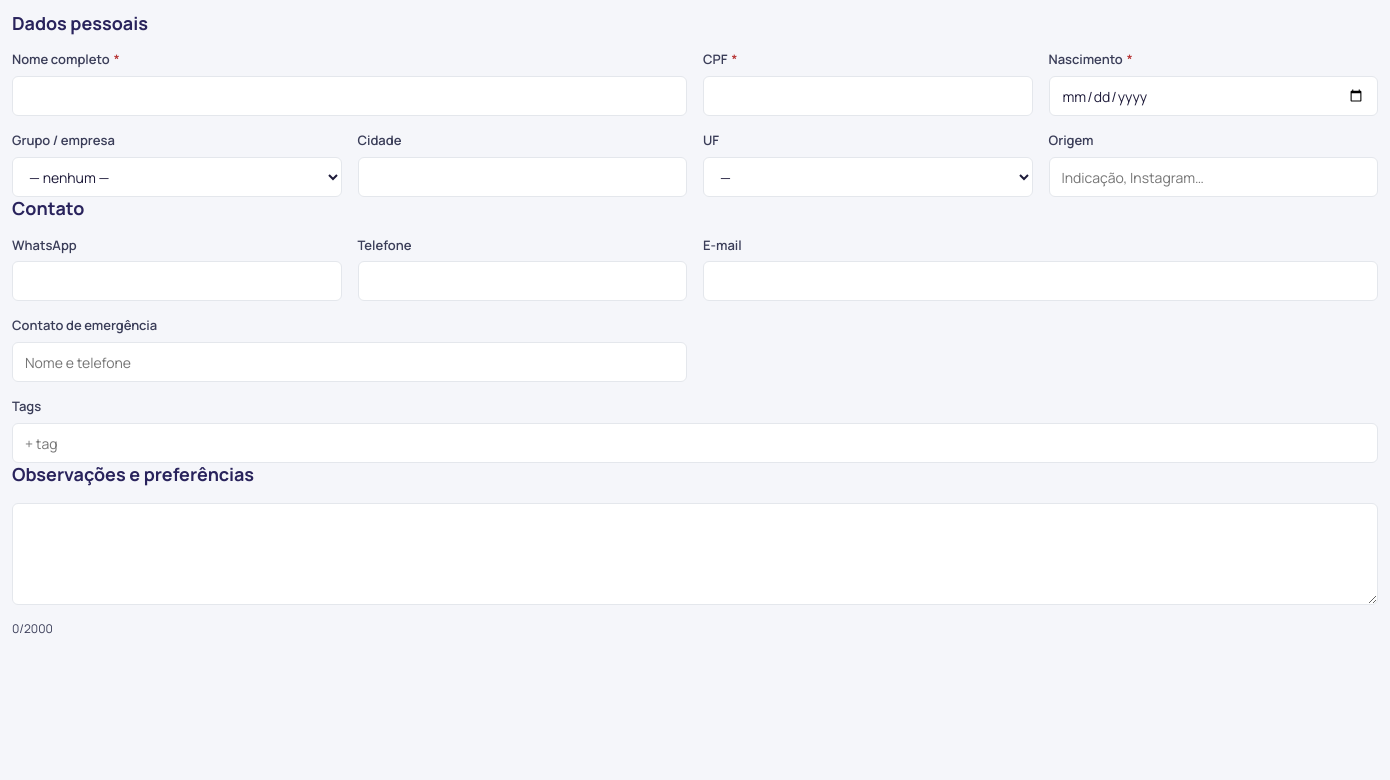
Test: observações tem maxLength 2000 e mostra contador N/2000
Expected: the text "0/2000" is shown, [12,620,53,637]
Type "abc" into the text box named "Observações" at (695,554), box [12,503,1378,605]
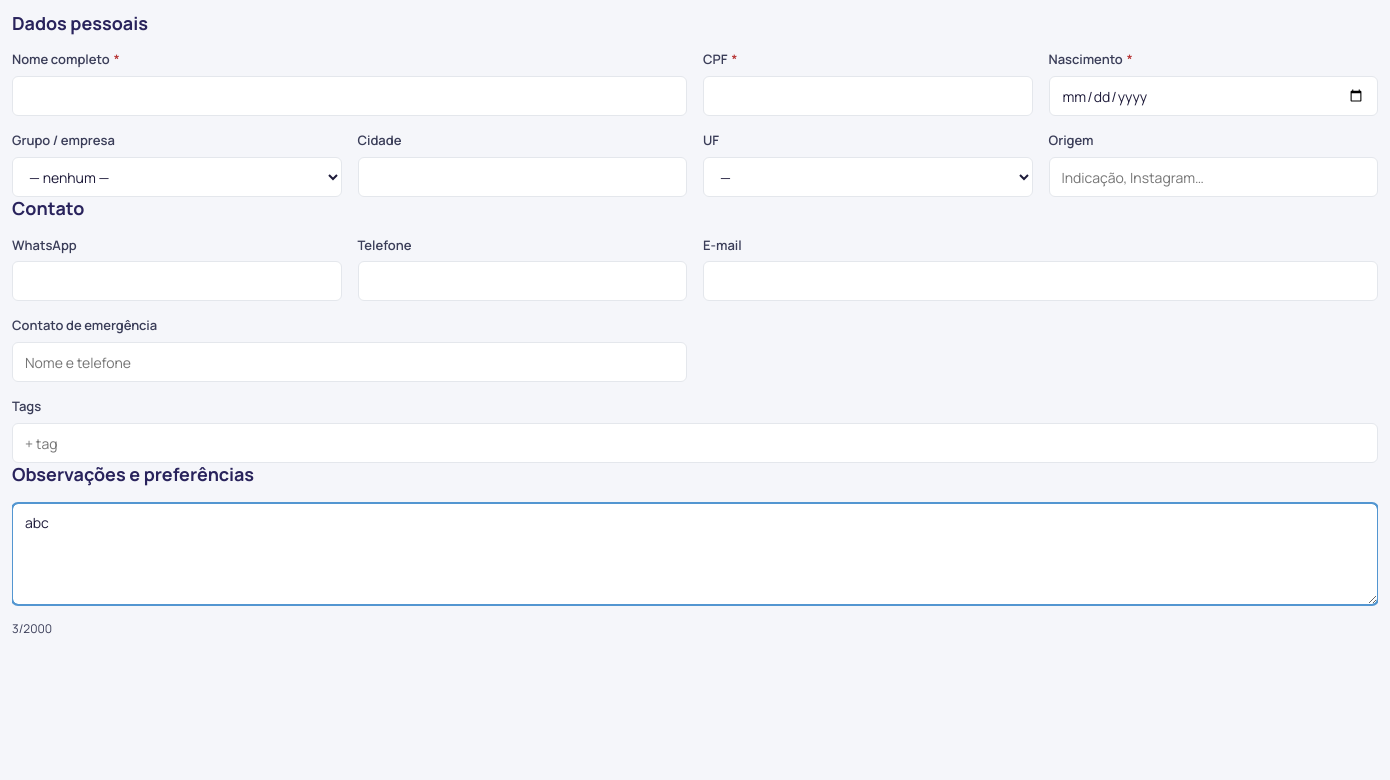
Now the text "3/2000" is shown, box [12,620,52,637]
